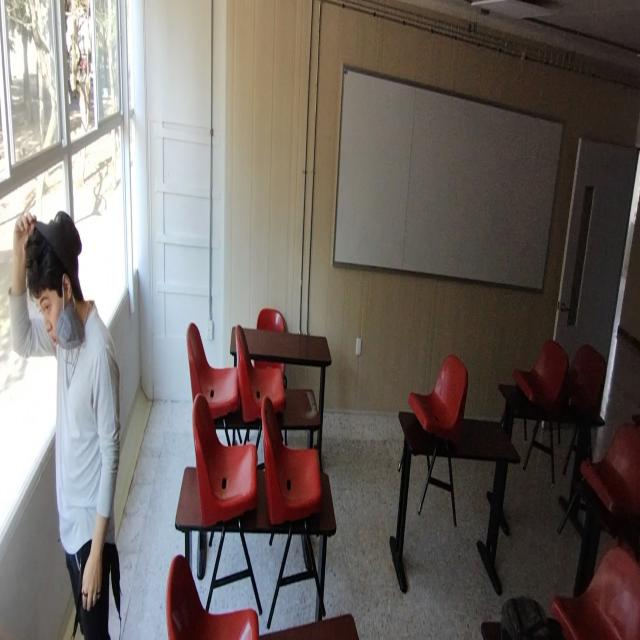adult: (10, 214, 120, 640)
